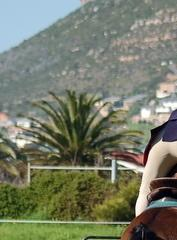horse: (87, 97, 177, 240)
person: (133, 72, 177, 240)
